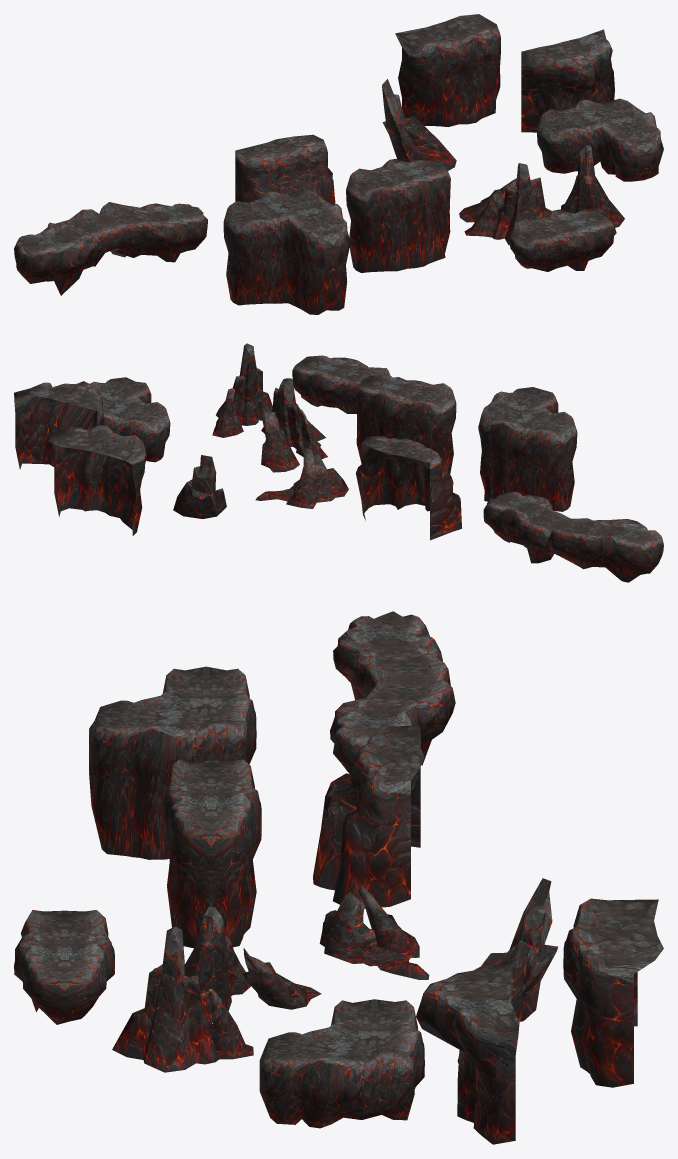
Rendered from S7_3d_dilao_shitou_001.FBX.
3 views of the same model, one above another, from view 1: azimuth 30°, elevation 25°; view 2: azimuth 150°, elevation 25°; view 3: azimuth 270°, elevation 25° (orthographic). The views are drawn at different scales.
Parts seen in each view (by area): view 1: S7_3d_dilao_shitou_002, S7_3d_dilao_shitou_004, S7_3d_dilao_shitou_001, S7_3d_dilao_shitou_013, S7_3d_dilao_shitou_011, S7_3d_dilao_shitou_012, S7_3d_dilao_shitou_003, S7_3d_dilao_shitou_005, S7_3d_dilao_shitou_007, S7_3d_dilao_shitou_010, S7_3d_dilao_shitou_006, S7_3d_dilao_shitou_008; view 2: S7_3d_dilao_shitou_002, S7_3d_dilao_shitou_001, S7_3d_dilao_shitou_013, S7_3d_dilao_shitou_003, S7_3d_dilao_shitou_004, S7_3d_dilao_shitou_012, S7_3d_dilao_shitou_011, S7_3d_dilao_shitou_005, S7_3d_dilao_shitou_006, S7_3d_dilao_shitou_009, S7_3d_dilao_shitou_007, S7_3d_dilao_shitou_010 (+1 smaller); view 3: S7_3d_dilao_shitou_002, S7_3d_dilao_shitou_011, S7_3d_dilao_shitou_004, S7_3d_dilao_shitou_003, S7_3d_dilao_shitou_013, S7_3d_dilao_shitou_001, S7_3d_dilao_shitou_012, S7_3d_dilao_shitou_006, S7_3d_dilao_shitou_005, S7_3d_dilao_shitou_009, S7_3d_dilao_shitou_010, S7_3d_dilao_shitou_007 (+1 smaller).
Part boxes in pixels (x1,y1,x2,y2): S7_3d_dilao_shitou_002: [223, 190, 350, 314]; S7_3d_dilao_shitou_004: [346, 159, 450, 272]; S7_3d_dilao_shitou_001: [14, 202, 207, 295]; S7_3d_dilao_shitou_013: [395, 14, 500, 126]; S7_3d_dilao_shitou_011: [537, 98, 663, 181]; S7_3d_dilao_shitou_012: [521, 29, 614, 132]; S7_3d_dilao_shitou_003: [235, 134, 335, 204]; S7_3d_dilao_shitou_005: [509, 209, 614, 271]; S7_3d_dilao_shitou_007: [464, 163, 551, 245]; S7_3d_dilao_shitou_010: [382, 79, 456, 170]; S7_3d_dilao_shitou_006: [560, 145, 624, 235]; S7_3d_dilao_shitou_008: [459, 178, 516, 222]; S7_3d_dilao_shitou_002: [478, 387, 577, 511]; S7_3d_dilao_shitou_001: [483, 491, 663, 582]; S7_3d_dilao_shitou_013: [48, 425, 147, 535]; S7_3d_dilao_shitou_003: [356, 436, 461, 540]; S7_3d_dilao_shitou_004: [356, 375, 456, 474]; S7_3d_dilao_shitou_012: [14, 381, 103, 469]; S7_3d_dilao_shitou_011: [90, 377, 170, 462]; S7_3d_dilao_shitou_005: [292, 355, 390, 413]; S7_3d_dilao_shitou_006: [212, 343, 272, 437]; S7_3d_dilao_shitou_009: [255, 447, 348, 508]; S7_3d_dilao_shitou_007: [261, 378, 327, 458]; S7_3d_dilao_shitou_010: [173, 455, 226, 518]; S7_3d_dilao_shitou_002: [89, 666, 256, 859]; S7_3d_dilao_shitou_011: [259, 999, 424, 1128]; S7_3d_dilao_shitou_004: [161, 759, 261, 948]; S7_3d_dilao_shitou_003: [313, 725, 424, 908]; S7_3d_dilao_shitou_013: [563, 898, 663, 1087]; S7_3d_dilao_shitou_001: [330, 611, 455, 773]; S7_3d_dilao_shitou_012: [416, 960, 519, 1144]; S7_3d_dilao_shitou_006: [112, 926, 253, 1072]; S7_3d_dilao_shitou_005: [14, 910, 114, 1024]; S7_3d_dilao_shitou_009: [319, 884, 429, 979]; S7_3d_dilao_shitou_010: [481, 878, 557, 1021]; S7_3d_dilao_shitou_007: [185, 906, 250, 1023].
Size of the model in its own units: 248 by 33.86 by 146.
